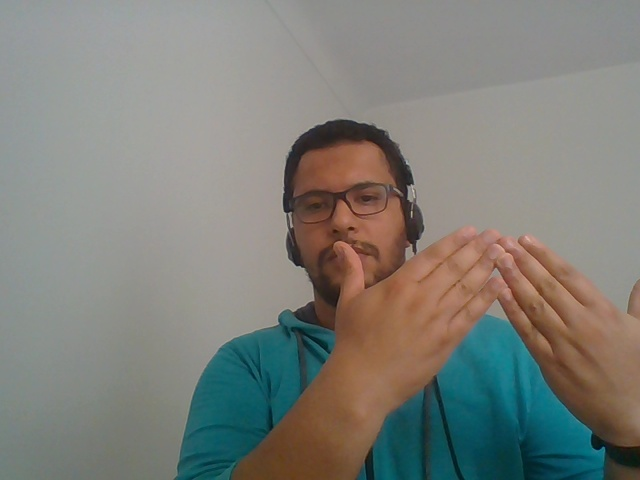thanks: (317, 221, 640, 480)
